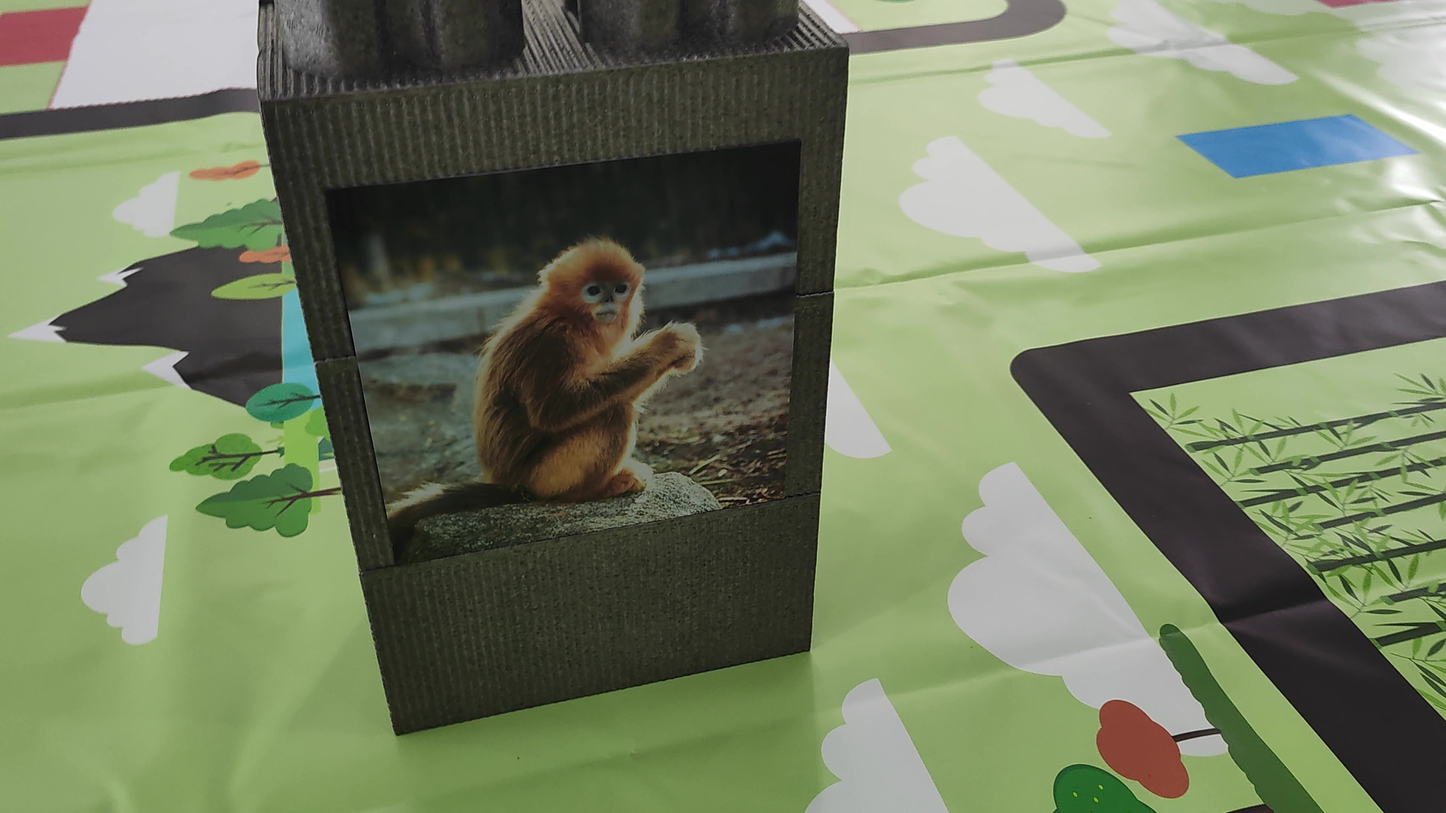monkey: (395, 229, 727, 553)
